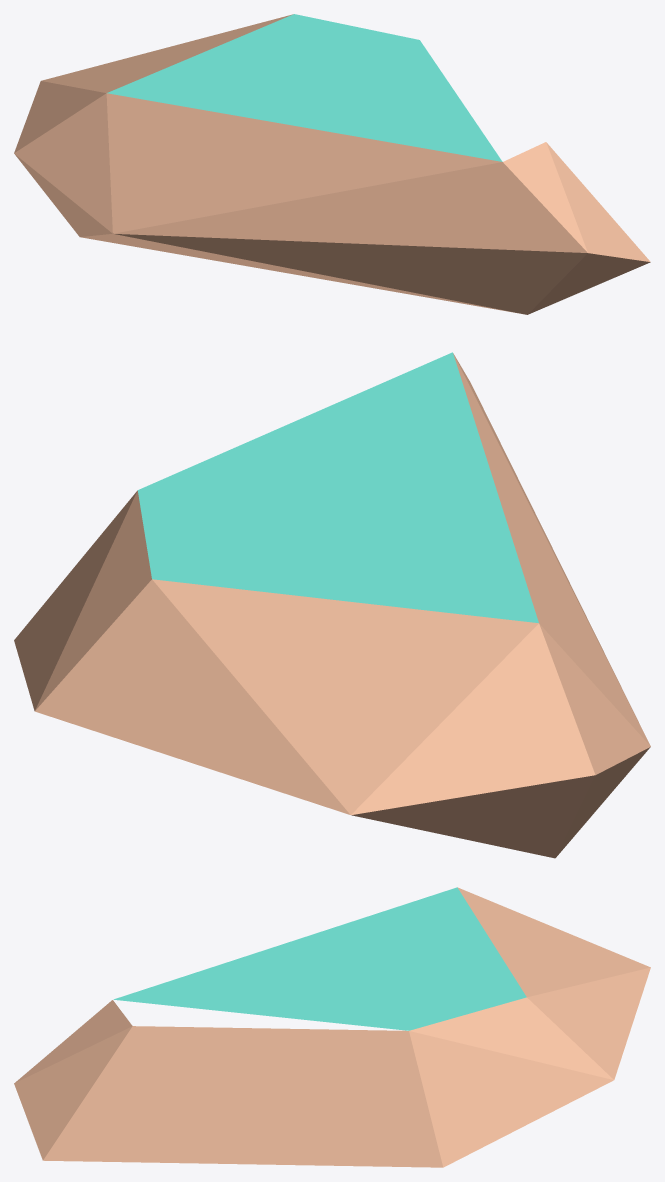
The model's file is k-rock-a.lod.glb.
The picture shows the model from 3 angles, top to bottom: view 1: azimuth 30°, elevation 25°; view 2: azimuth 150°, elevation 25°; view 3: azimuth 270°, elevation 25°; orthographic projection. The views are drawn at different scales.
Size of the model in its own units: 0.7849 by 0.2597 by 1.02.
